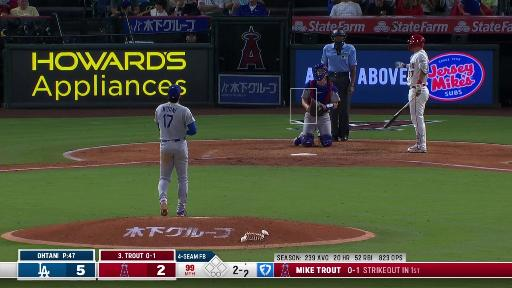pitcher: (154, 83, 198, 220)
